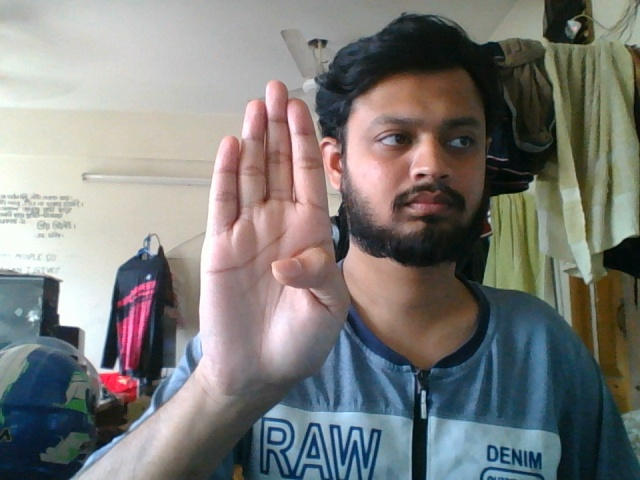ba: (189, 77, 355, 442)
